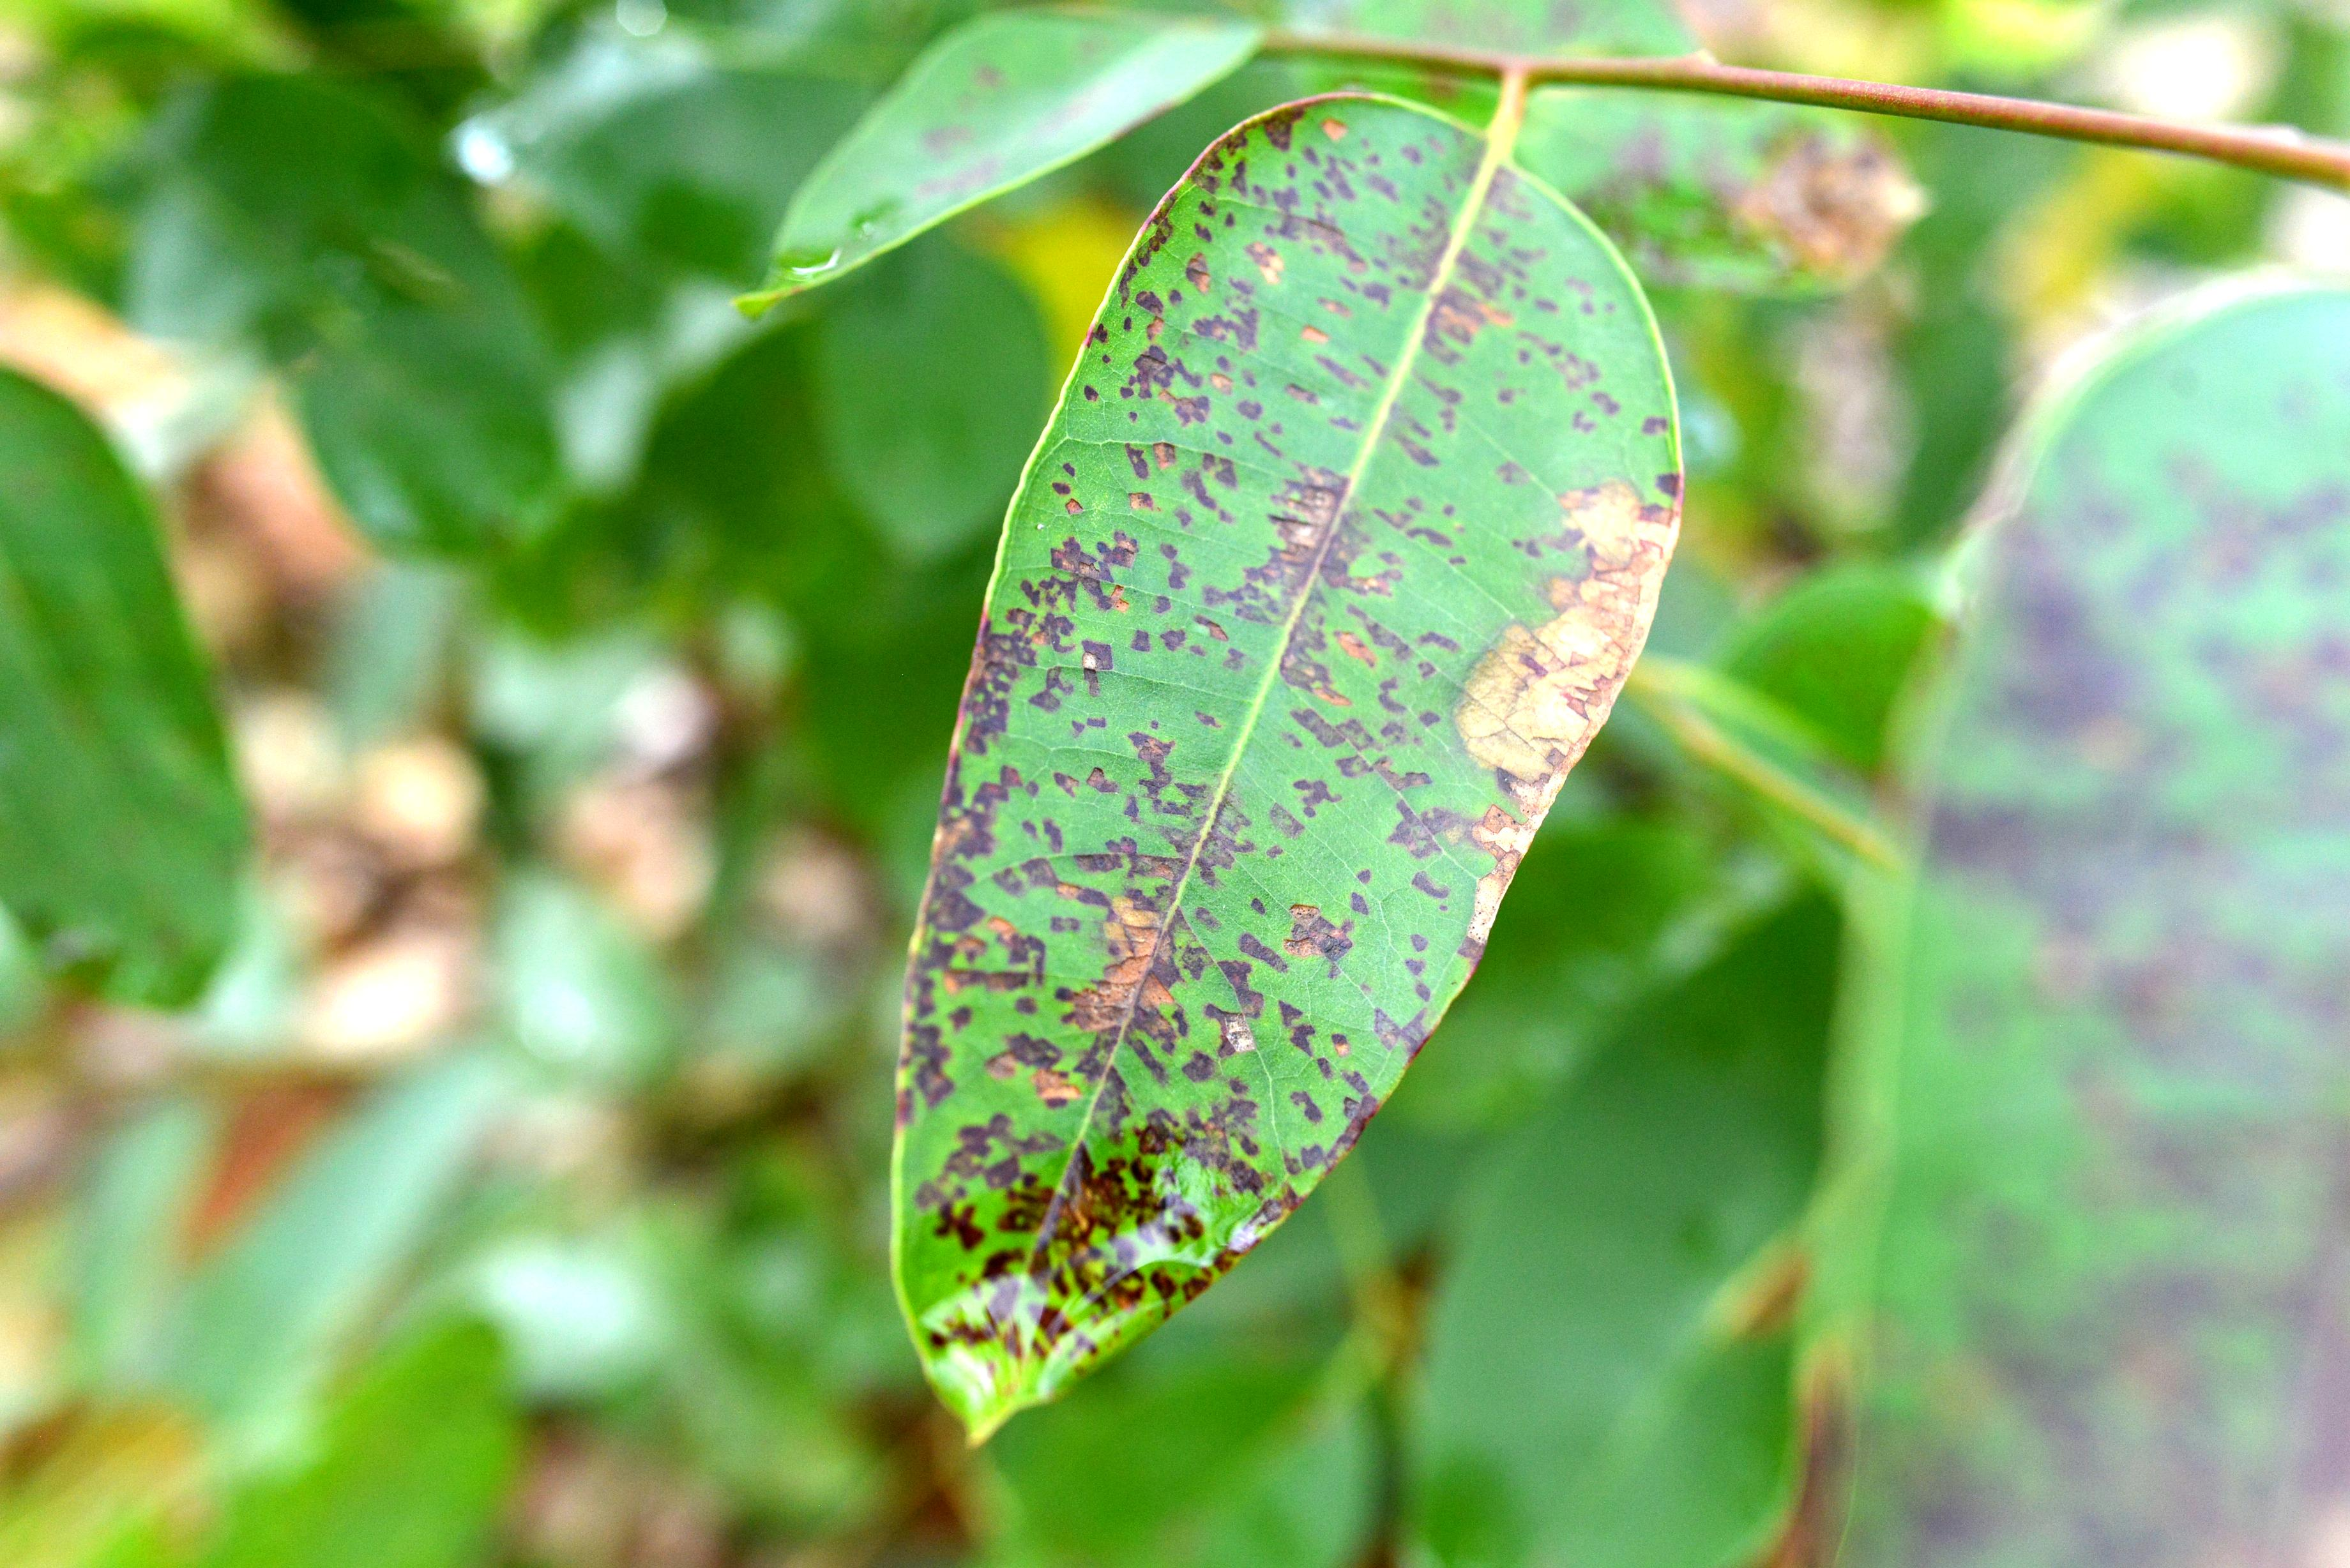Cylindrocladium: (1458, 460, 1696, 959), (1725, 112, 1928, 299)
Xanthomonas: (905, 89, 1442, 1421), (1820, 434, 2350, 1568)
